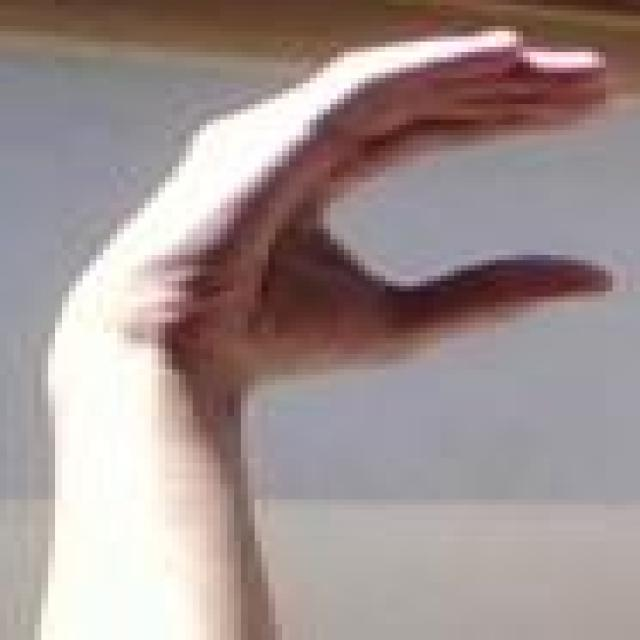C: (0, 2, 640, 387)
